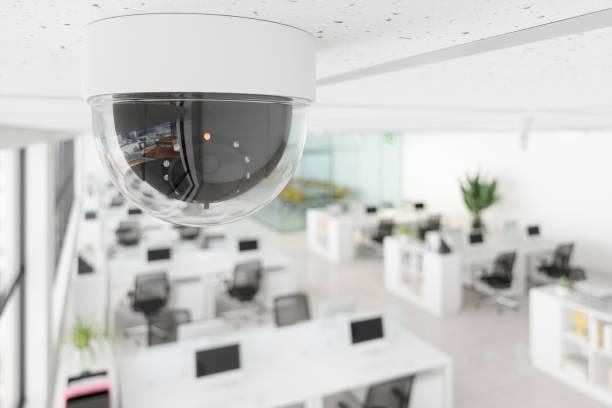camera: (50, 0, 338, 243)
